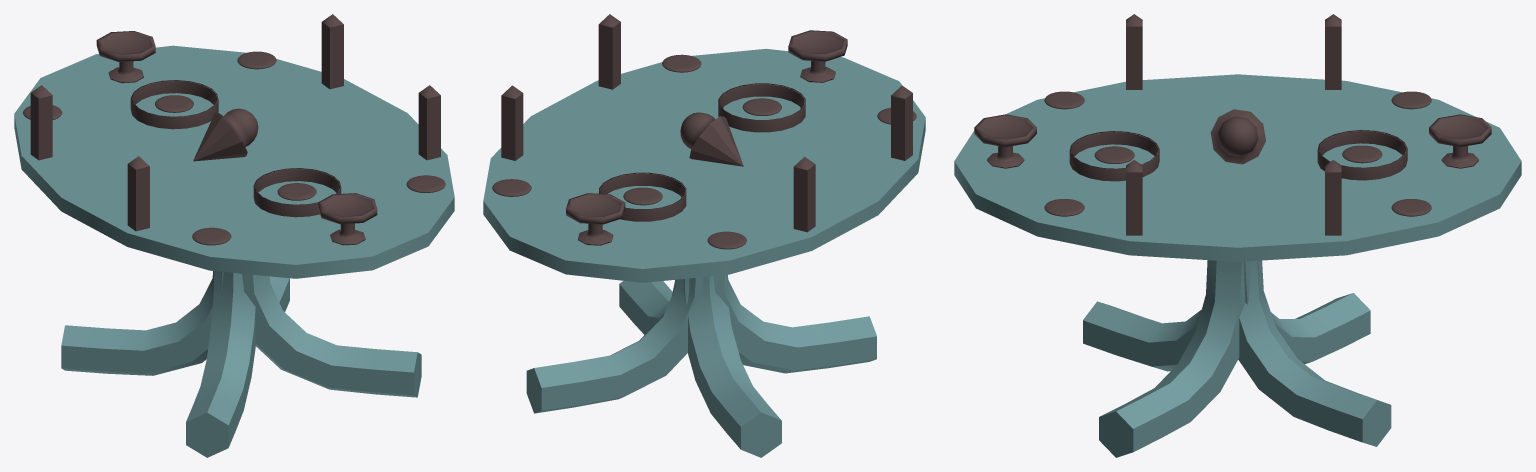
Rendered from mesa4Invo.fbx.
The picture shows the model from 3 angles, left to right: view 1: azimuth 30°, elevation 25°; view 2: azimuth 150°, elevation 25°; view 3: azimuth 270°, elevation 25°; orthographic projection. The views are drawn at different scales.
Parts seen in each view (by area): view 1: pCylinder559, polySurface5356, pCylinder577, pSphere35, pCylinder561, pCylinder566, pCylinder562, pCylinder575, pCylinder580, pCylinder571, pCylinder576, pCylinder560 (+4 smaller); view 2: pCylinder559, polySurface5356, pSphere35, pCylinder561, pCylinder566, pCylinder562, pCylinder577, pCylinder571, pCylinder575, pCylinder576, pCylinder580, pCylinder572 (+4 smaller); view 3: pCylinder559, polySurface5356, pSphere35, pCylinder577, pCylinder561, pCylinder562, pCylinder566, pCylinder571, pCylinder576, pCylinder575, pCylinder580, pCylinder560 (+5 smaller).
Part boxes in pixels (x1,y1,x2,y2): pCylinder559: (14,45,454,278); polySurface5356: (61,271,421,457); pCylinder577: (130,80,218,129); pSphere35: (193,108,258,161); pCylinder561: (253,168,341,217); pCylinder566: (318,193,377,245); pCylinder562: (96,31,155,83); pCylinder575: (30,85,52,160); pCylinder580: (127,156,149,231); pCylinder571: (321,14,343,89); pCylinder576: (418,85,440,160); pCylinder560: (192,227,231,245); pCylinder559: (483,48,925,282); polySurface5356: (526,275,876,457); pSphere35: (680,112,743,166); pCylinder561: (718,83,805,132); pCylinder566: (788,30,847,82); pCylinder562: (566,193,625,245); pCylinder577: (599,172,686,221); pCylinder571: (501,85,523,160); pCylinder575: (793,156,815,232); pCylinder576: (598,14,620,89); pCylinder580: (891,85,912,160); pCylinder572: (707,231,746,249); pCylinder559: (954,74,1521,261); polySurface5356: (1083,260,1391,457); pSphere35: (1210,109,1265,164); pCylinder577: (1317,130,1407,180); pCylinder561: (1069,131,1159,181); pCylinder562: (1429,114,1491,168); pCylinder566: (974,114,1036,168); pCylinder571: (1325,160,1341,235); pCylinder576: (1126,160,1142,235); pCylinder575: (1325,14,1341,89); pCylinder580: (1126,14,1142,89); pCylinder560: (1044,91,1084,109).
Bounding box in the file's own units: 181 × 150 × 250.
